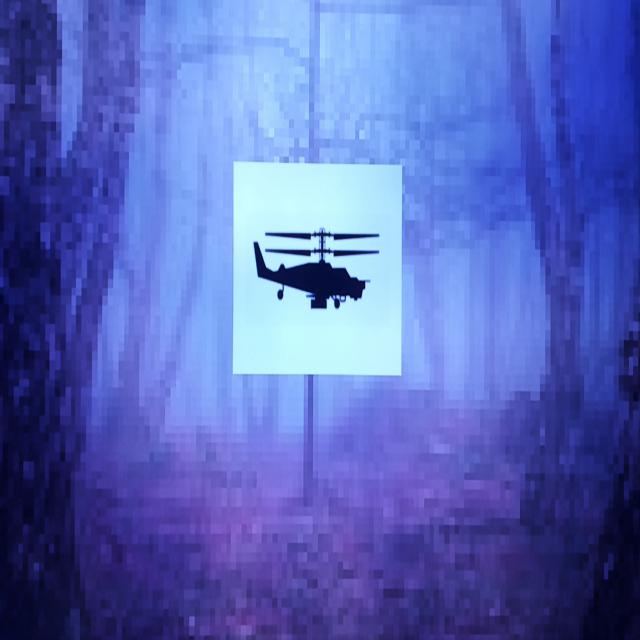Ka-52 Enemy: (254, 229, 378, 308)
